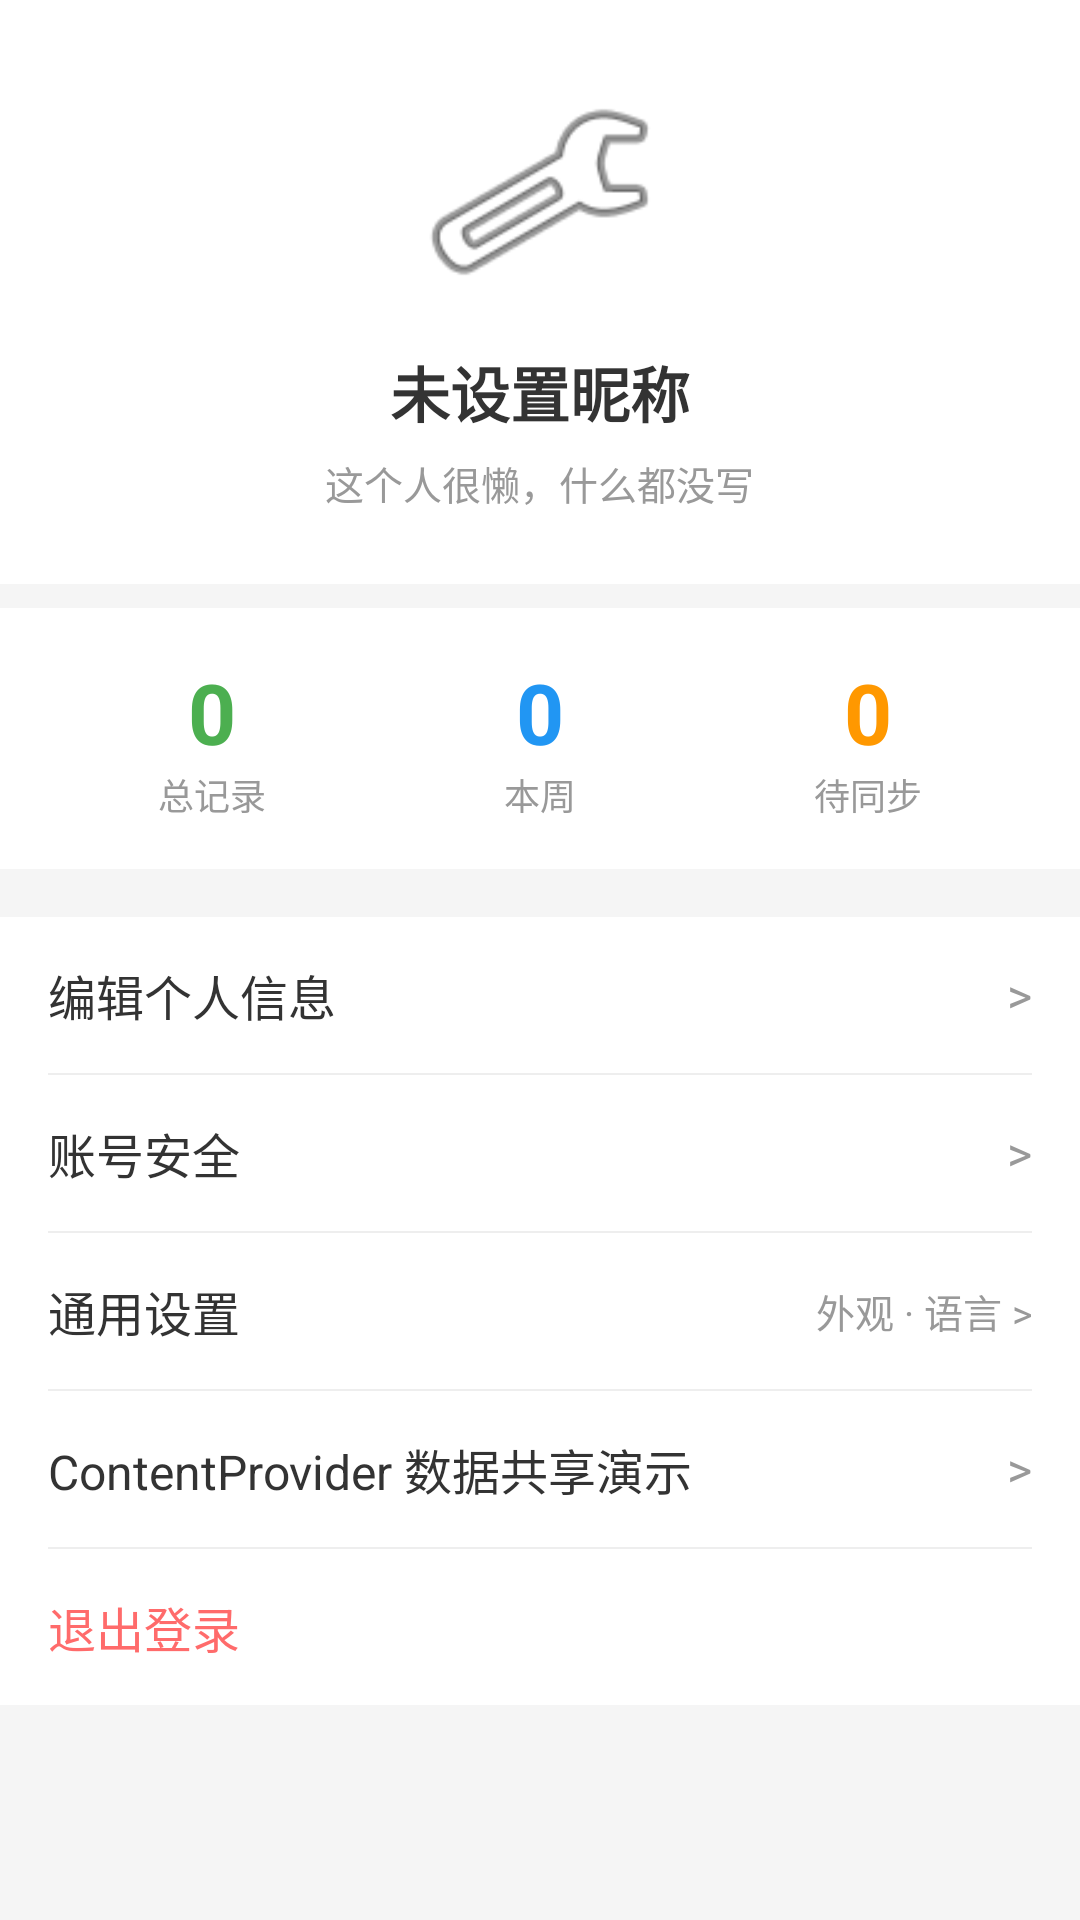

Named icons in this screenshot (1080x1920) and their centers, point (x, y):
manage: point (540, 192)
